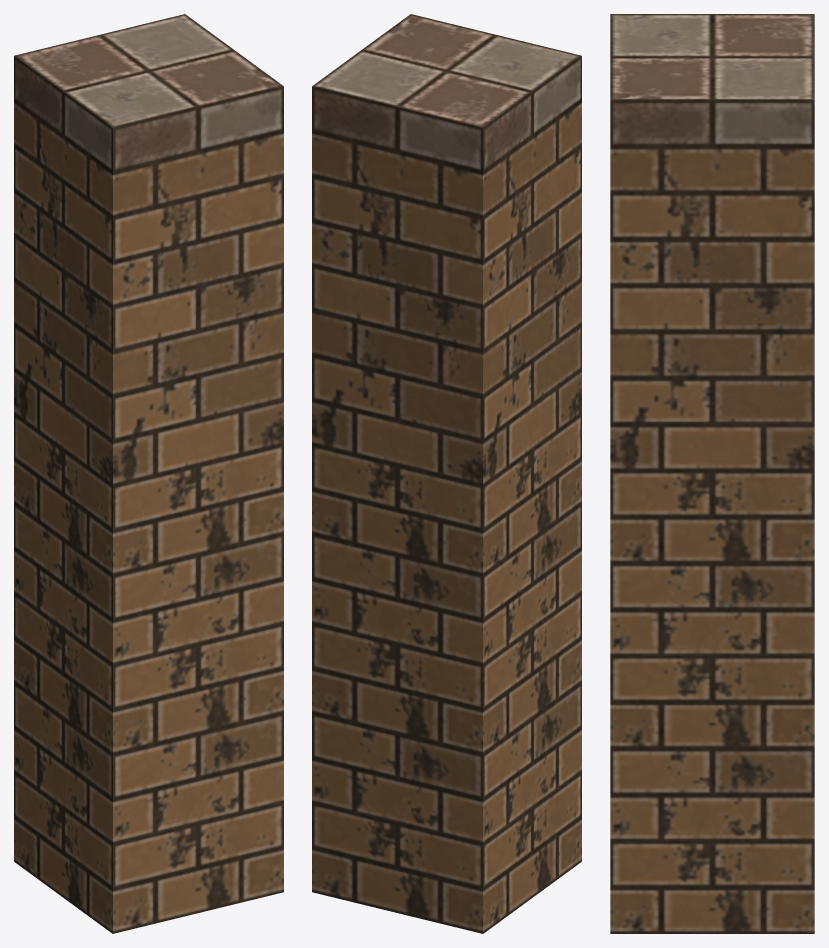
The model's file is Block_Piller.fbx.
3 views of the same model, side by side, from view 1: azimuth 30°, elevation 25°; view 2: azimuth 150°, elevation 25°; view 3: azimuth 270°, elevation 25° (orthographic). The views are drawn at different scales.
Parts seen in each view (by area): view 1: Terrain; view 2: Terrain; view 3: Terrain.
Boxes of the visible parts, x1,y1,x2,y2 form: Terrain: [14, 14, 283, 933]; Terrain: [312, 14, 581, 933]; Terrain: [610, 14, 814, 933].
Bounding box in the file's own units: 1 × 4.5 × 1.
